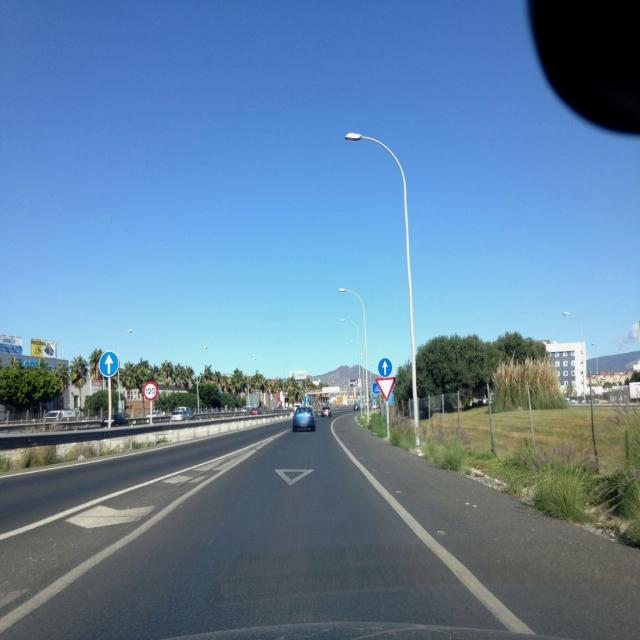car: (292, 406, 316, 432), (100, 412, 131, 428), (42, 409, 80, 421), (170, 407, 194, 422), (321, 404, 332, 418)
